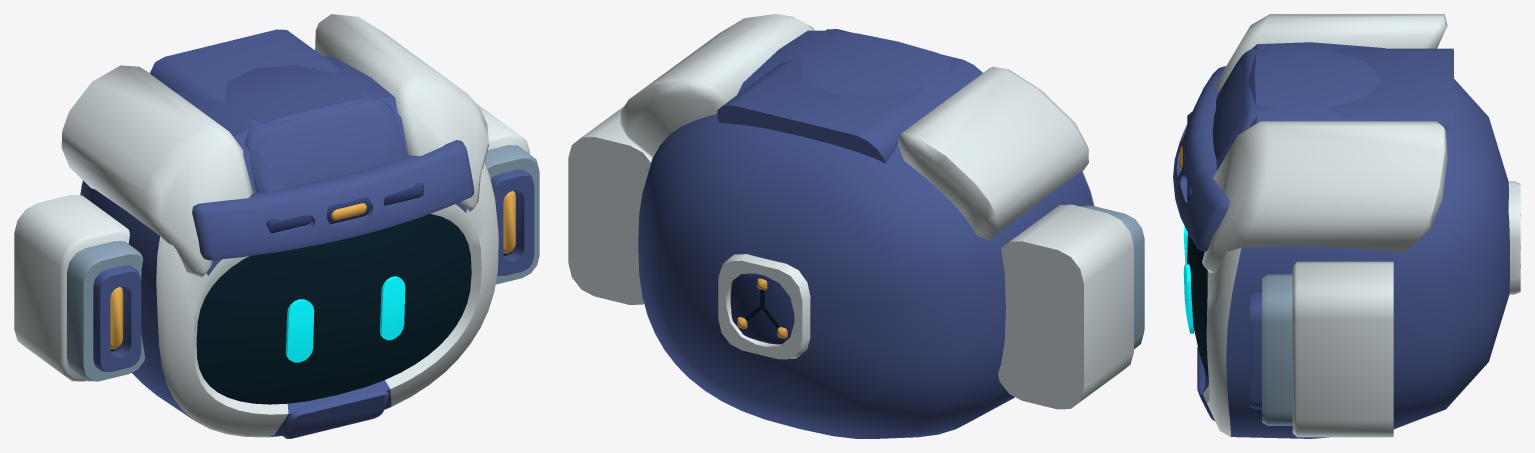
Rendered from copilot_architect_v01.glb.
3 renders of one model, left to right at view 1: azimuth 30°, elevation 25°; view 2: azimuth 150°, elevation 25°; view 3: azimuth 270°, elevation 25°, orthographic. The views are drawn at different scales.
Visible parts, largest first — view 1: architect_model; view 2: architect_model; view 3: architect_model.
Part boxes in pixels (box(x1,y1,x2,y2)): architect_model: box(14, 14, 539, 438); architect_model: box(568, 14, 1144, 438); architect_model: box(1173, 14, 1520, 438).
Size of the model in its own units: 3.35 by 2.14 by 2.03.
2 materials, 2 textured.
